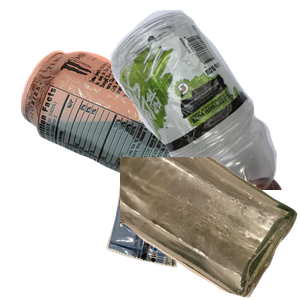glass: (120, 157, 300, 300)
metal: (18, 48, 258, 228)
plastic: (73, 10, 300, 190)
trash: (104, 152, 280, 300)
